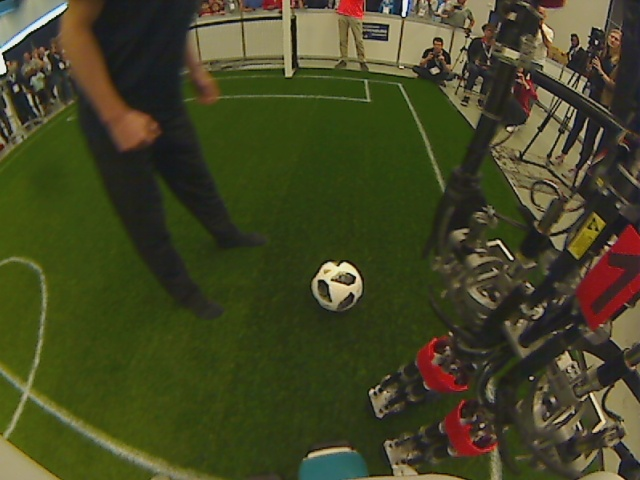ball: (311, 259, 364, 315)
